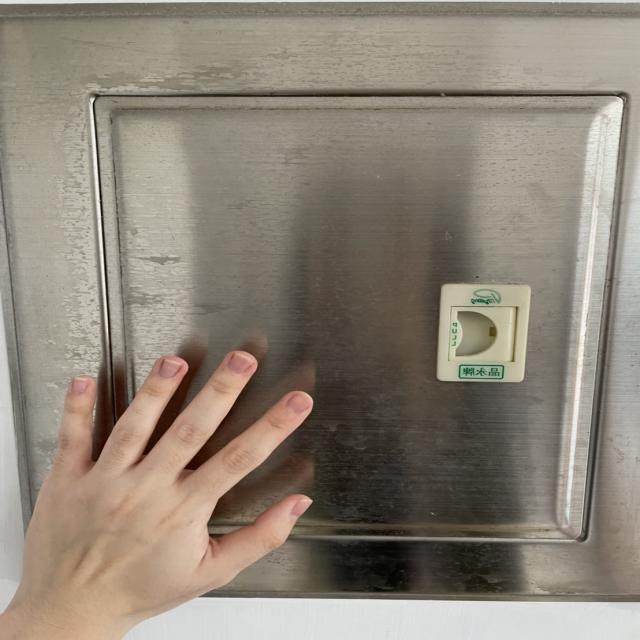no_glove: (6, 331, 337, 633)
